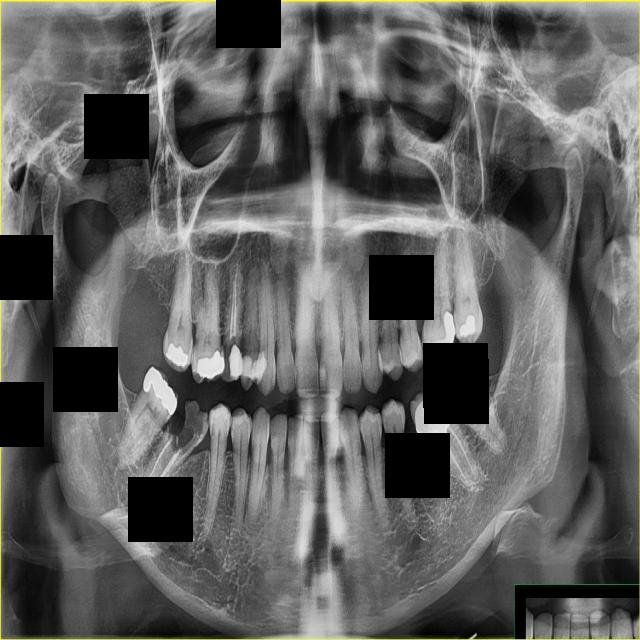74: (446, 423, 480, 477), (145, 435, 174, 480), (150, 450, 181, 492), (443, 442, 468, 485), (229, 265, 242, 342)
NucleOSS Implant: (136, 365, 187, 416), (428, 310, 464, 357), (446, 355, 479, 396), (193, 350, 229, 382), (426, 403, 453, 444), (163, 343, 190, 368), (458, 315, 476, 339)
Sterngold Implant: (157, 396, 219, 461), (208, 418, 217, 440)
Straumann Implant: (237, 353, 267, 384), (227, 346, 244, 380), (319, 366, 328, 394)
Zimmer Implant: (399, 377, 464, 439)
